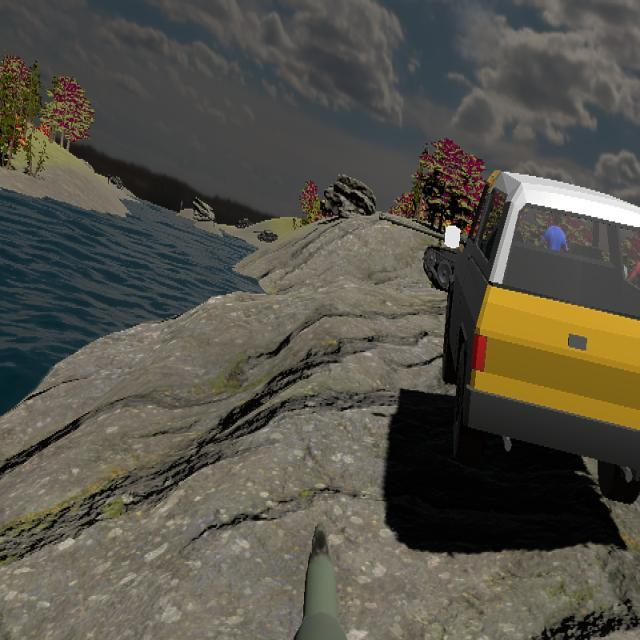car: (442, 172, 640, 498)
